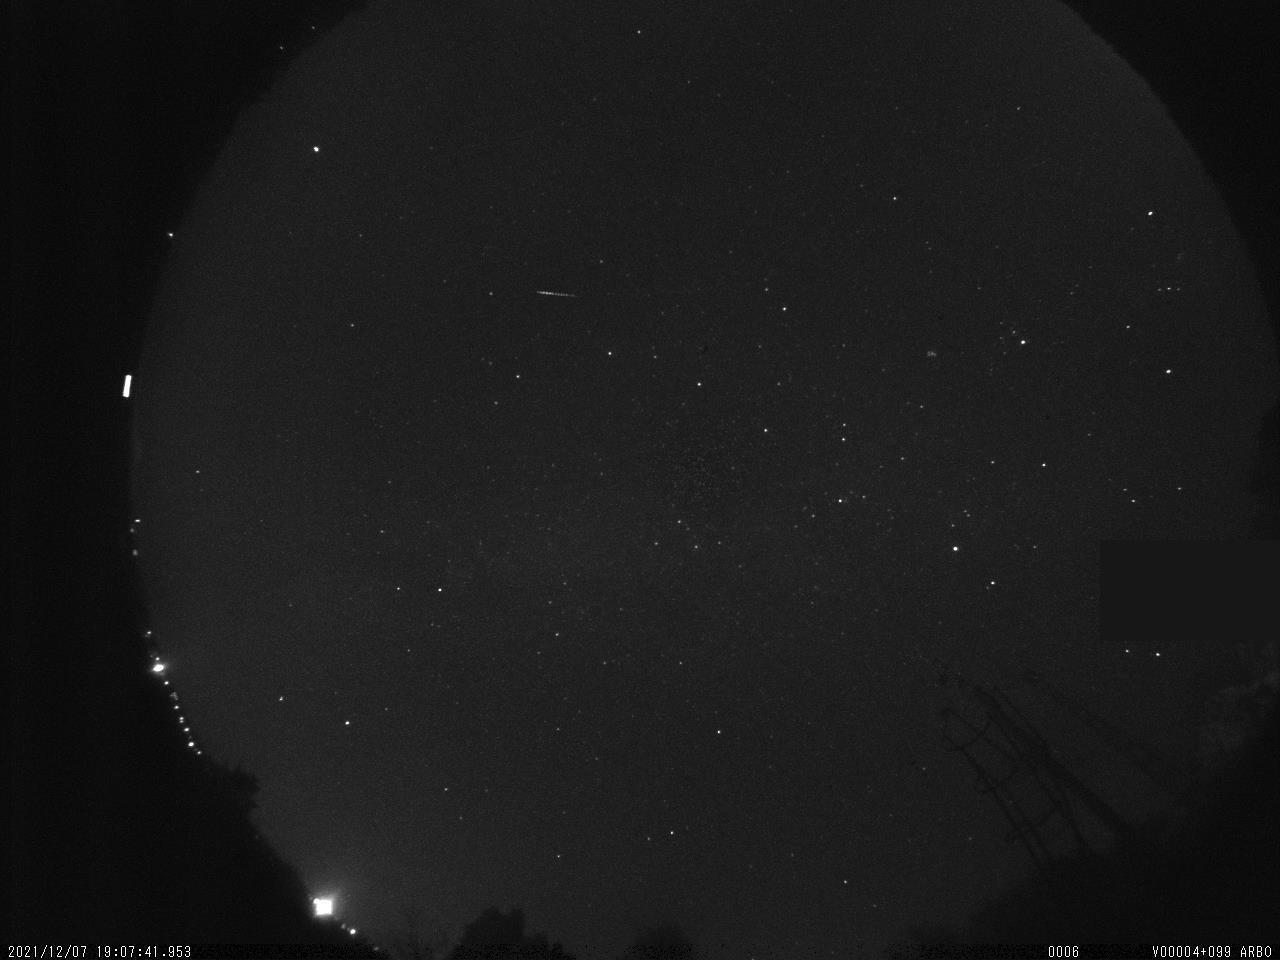Meteor: (533, 285, 581, 302)
